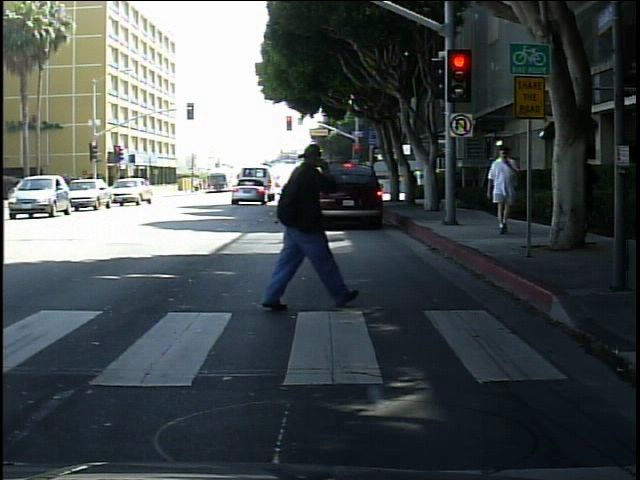person: (244, 124, 356, 338), (483, 144, 526, 238), (568, 137, 602, 245)
